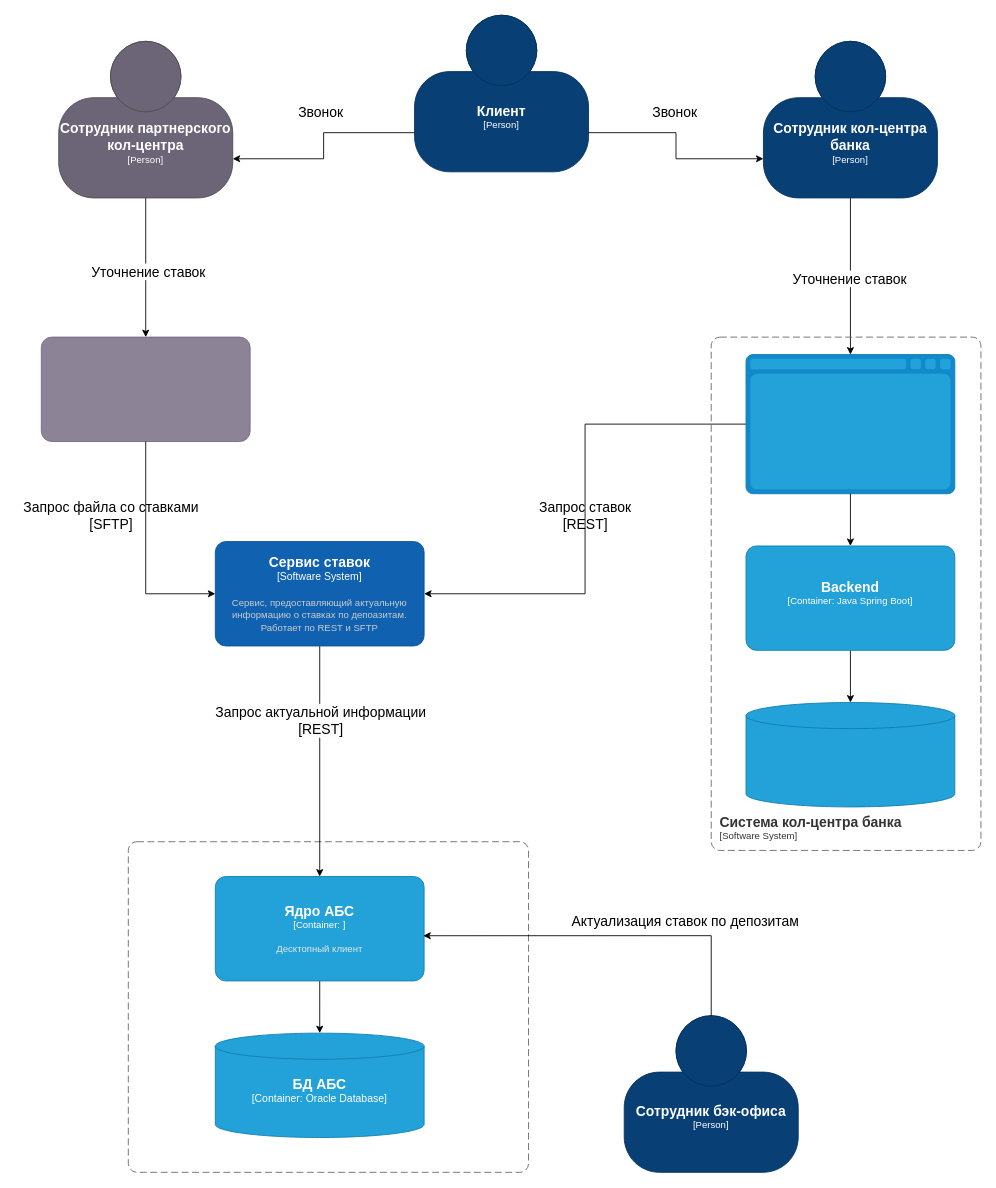
The diagram is 996 pixels wide and 1188 high, and some of its shapes have lost their labels. Here are the shapes that lost their labels. From the top down, the box of each, then its label:
(40, 336, 250, 442): Система партнерского кол-центра [Software System]
(745, 354, 955, 494): WebUI [Container: React.js]
(745, 702, 955, 807): БД кол-центра банка [Container: PostgreSQL]
(127, 841, 529, 1172): АБС [Software System]
